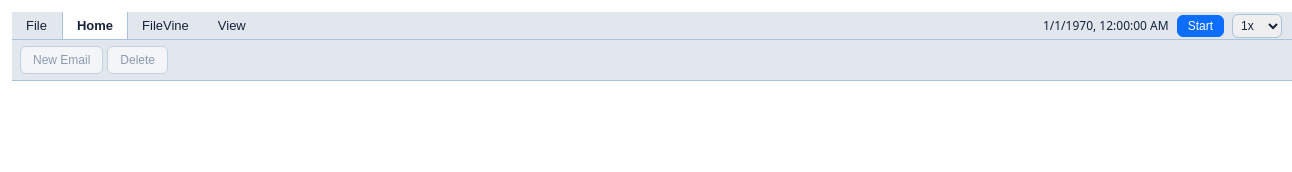
Test: RibbonBar › File menu (034) › clicking File opens a menu with a Settings entry
The width and height of the screenshot is (1292, 172).
Click the button "File" at (37, 26), box [12,12,62,39]
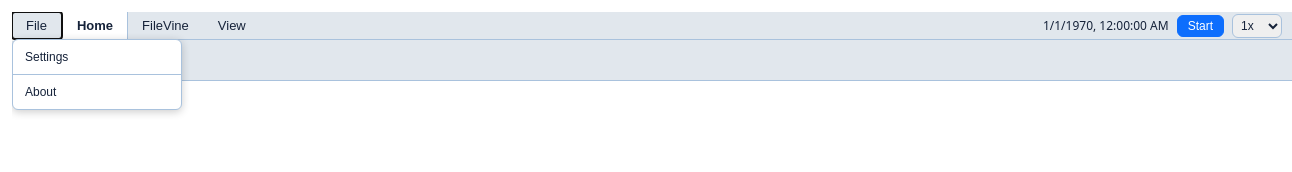
Now the menu is shown, box [12,39,182,110]
Now the menu item "Settings" is shown, box [13,44,181,70]
